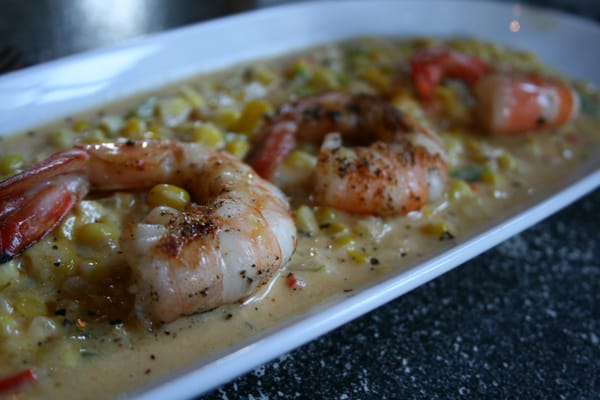sushi: (0, 20, 598, 393)
